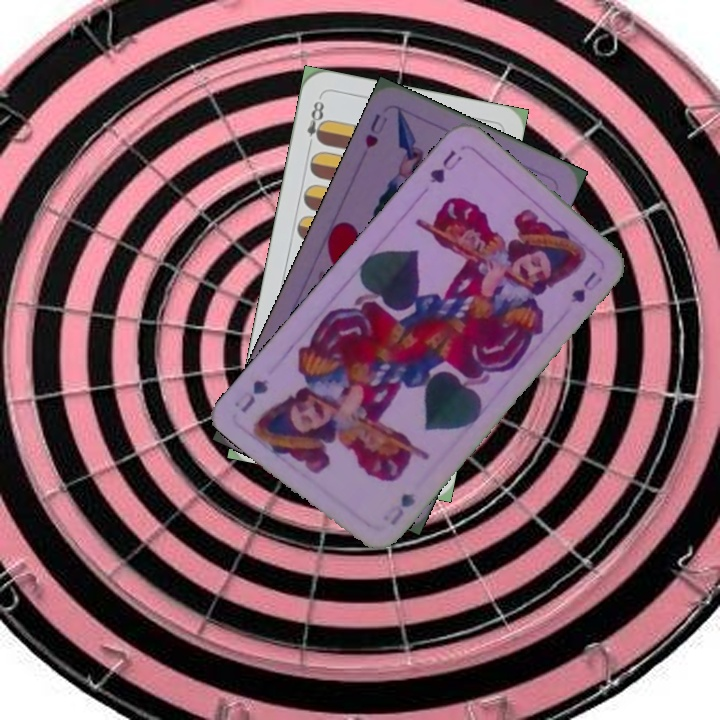E8: (303, 96, 329, 152)
GU: (425, 145, 466, 186), (385, 489, 419, 529)
HU: (360, 109, 390, 151)
